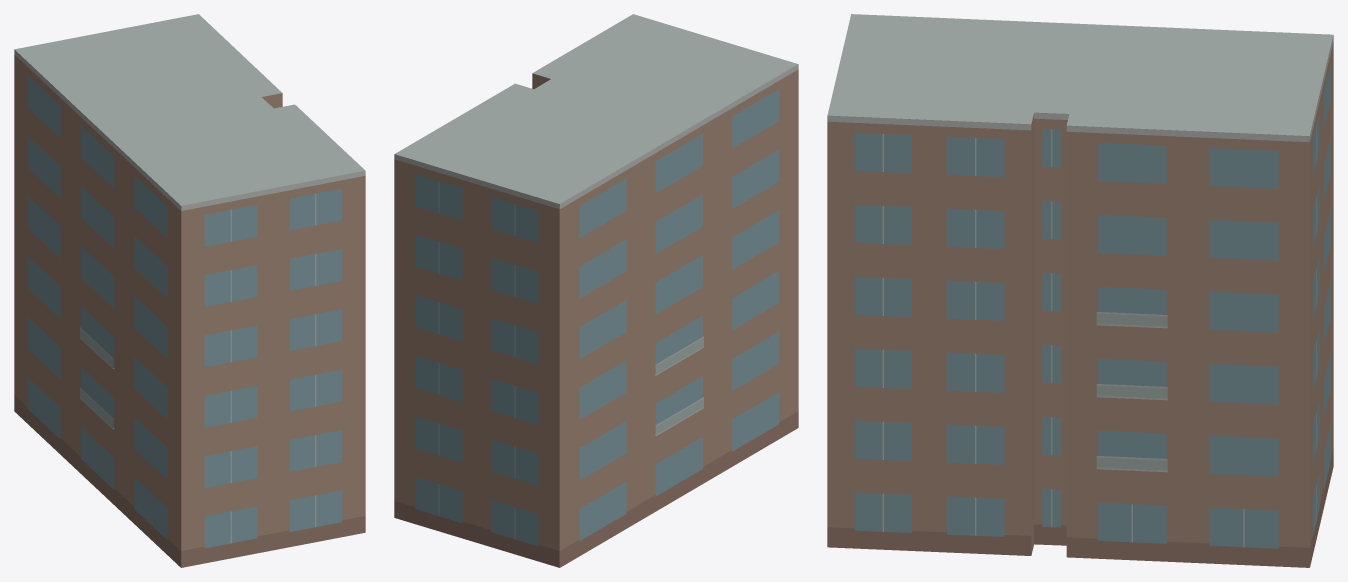
File: survey-upis-32636692.glb
3 views of the same model, side by side, from view 1: azimuth 30°, elevation 25°; view 2: azimuth 150°, elevation 25°; view 3: azimuth 270°, elevation 25° (orthographic). The views are drawn at different scales.
Visible parts, largest first — view 1: survey-upis-32636692.tmp; view 2: survey-upis-32636692.tmp; view 3: survey-upis-32636692.tmp.
Boxes of the visible parts, x1,y1,x2,y2 form: survey-upis-32636692.tmp: (14,14,365,567); survey-upis-32636692.tmp: (394,14,798,567); survey-upis-32636692.tmp: (827,14,1333,567).
Bounding box in the file's own units: 10.45 × 17.2 × 18.29.
